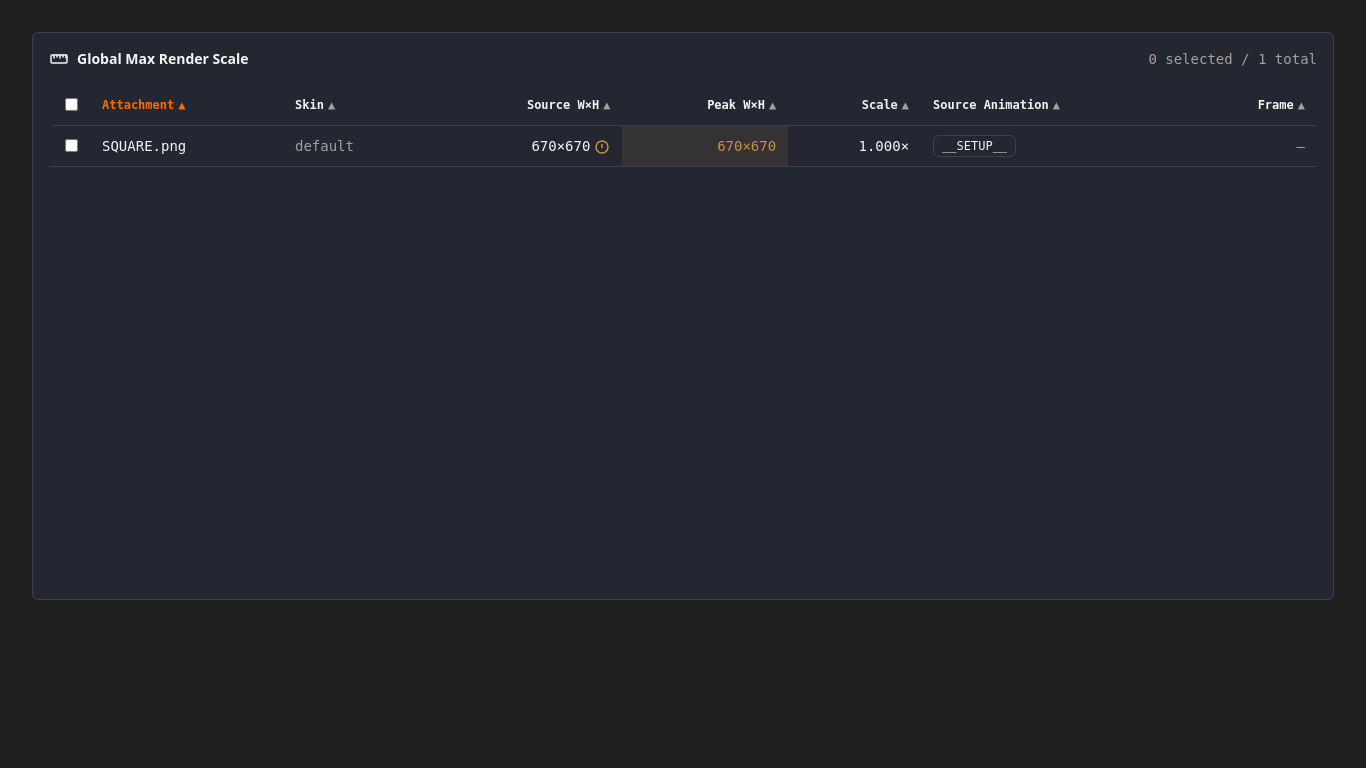
Test: G-01 D-02: mode-aware wording › atlas-less mode renders "Source PNG (" wording
Hover over the element with test id "dims-badge-host".
mouse_move(602, 147)  # box 594,139 -> 610,155
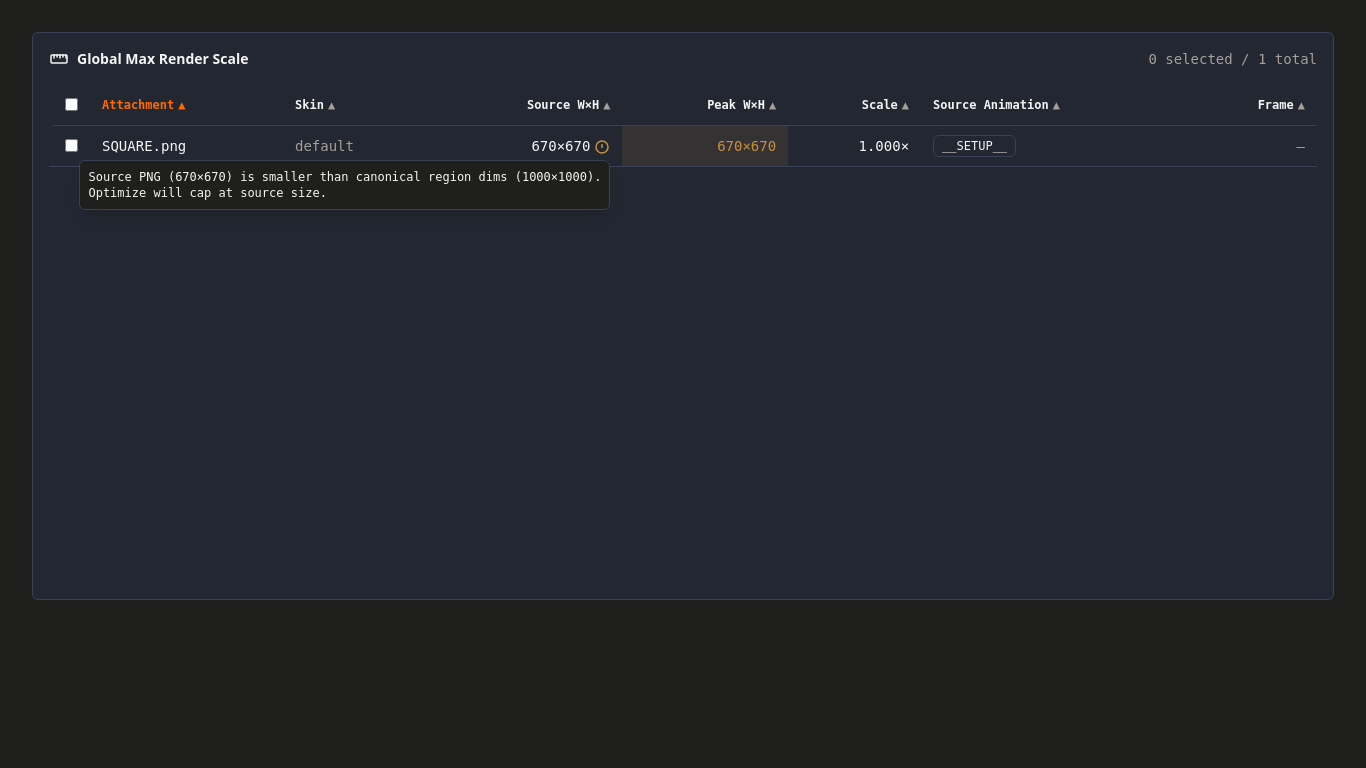
Check: the tooltip shows "Source PNG (670×670)", box 88,170 -> 601,200
